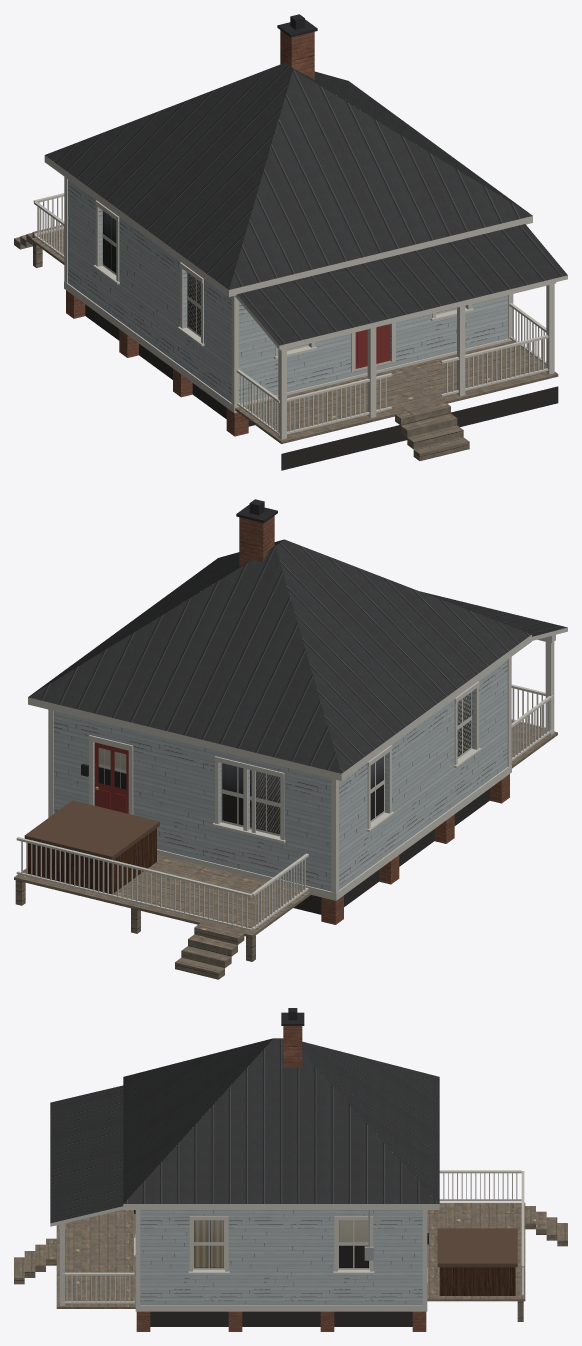
File: town_cottage_b.gltf
3 renders of one model, top to bottom at view 1: azimuth 30°, elevation 25°; view 2: azimuth 150°, elevation 25°; view 3: azimuth 270°, elevation 25°, orthographic. The views are drawn at different scales.
Visible parts, largest first — view 1: TownCottageB_Roof, TownCottageB_Walls, TownCottageB_Deck, TownCottageB_Railing, TownCottageB_Fascia, TownCottageB_Trim, TownCottageB_PorchUnder, TownCottageB_Posts, TownCottageB_Steps, TownCottageB_Sill, TownCottageB_Window, TownCottageB_Piers (+3 smaller); view 2: TownCottageB_Roof, TownCottageB_Walls, TownCottageB_Railing, TownCottageB_BackDeck, TownCottageB_Trim, TownCottageB_Window, TownCottageB_HotTubCover, TownCottageB_Fascia, TownCottageB_HotTub, TownCottageB_Sill, TownCottageB_Steps, TownCottageB_Piers (+6 smaller); view 3: TownCottageB_Roof, TownCottageB_Walls, TownCottageB_Deck, TownCottageB_BackDeck, TownCottageB_Skirt, TownCottageB_HotTubCover, TownCottageB_Window, TownCottageB_Railing, TownCottageB_Trim, TownCottageB_Steps, TownCottageB_HotTub, TownCottageB_Fascia (+4 smaller).
Part boxes in pixels (x1,y1,x2,y2): TownCottageB_Roof: [45, 63, 567, 345]; TownCottageB_Walls: [68, 179, 507, 403]; TownCottageB_Deck: [235, 340, 558, 443]; TownCottageB_Railing: [33, 193, 548, 435]; TownCottageB_Fascia: [44, 155, 567, 349]; TownCottageB_Trim: [64, 177, 556, 405]; TownCottageB_PorchUnder: [281, 386, 558, 470]; TownCottageB_Posts: [278, 284, 554, 439]; TownCottageB_Steps: [14, 225, 469, 460]; TownCottageB_Sill: [64, 281, 511, 413]; TownCottageB_Window: [102, 211, 465, 350]; TownCottageB_Piers: [66, 290, 248, 436]; TownCottageB_Roof: [28, 539, 567, 773]; TownCottageB_Walls: [53, 660, 507, 891]; TownCottageB_Railing: [16, 684, 553, 930]; TownCottageB_BackDeck: [14, 855, 311, 937]; TownCottageB_Trim: [48, 635, 555, 893]; TownCottageB_Window: [98, 692, 471, 836]; TownCottageB_HotTubCover: [24, 800, 159, 859]; TownCottageB_Fascia: [28, 627, 567, 780]; TownCottageB_HotTub: [27, 828, 156, 894]; TownCottageB_Sill: [157, 765, 511, 900]; TownCottageB_Steps: [175, 923, 244, 979]; TownCottageB_Piers: [321, 774, 509, 924]; TownCottageB_Roof: [50, 1038, 439, 1223]; TownCottageB_Walls: [140, 1210, 422, 1304]; TownCottageB_Deck: [56, 1209, 135, 1308]; TownCottageB_BackDeck: [427, 1202, 525, 1301]; TownCottageB_Skirt: [150, 1311, 412, 1326]; TownCottageB_HotTubCover: [437, 1228, 517, 1267]; TownCottageB_Window: [193, 1220, 369, 1269]; TownCottageB_Railing: [62, 1170, 524, 1303]; TownCottageB_Trim: [59, 1210, 427, 1305]; TownCottageB_Steps: [14, 1206, 567, 1284]; TownCottageB_HotTub: [439, 1267, 515, 1295]; TownCottageB_Fascia: [50, 1204, 439, 1226].
Size of what is drawn, in the model's own units: 7.9 by 7.82 by 14.54.
Materials: 2 (2 with a texture image).
